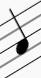note: (5, 5, 31, 72)
